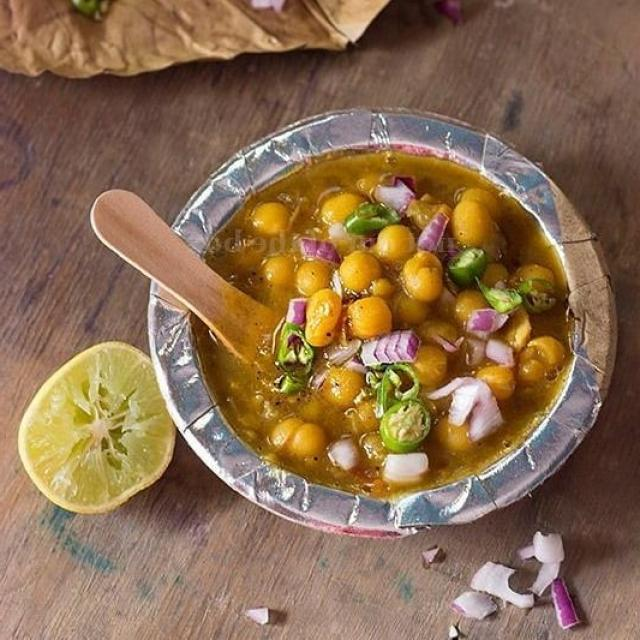Chole: (276, 169, 548, 479)
